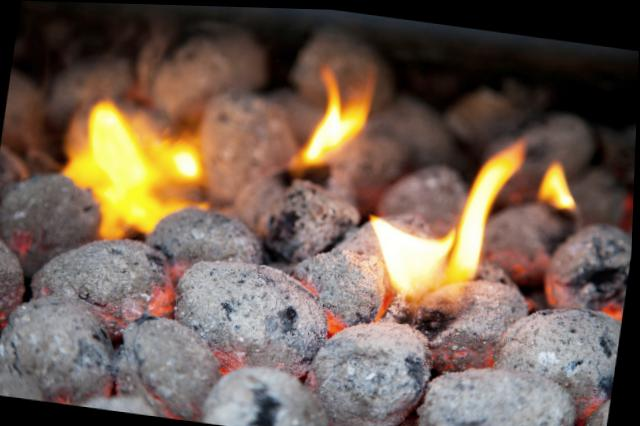fire: (29, 18, 612, 366)
